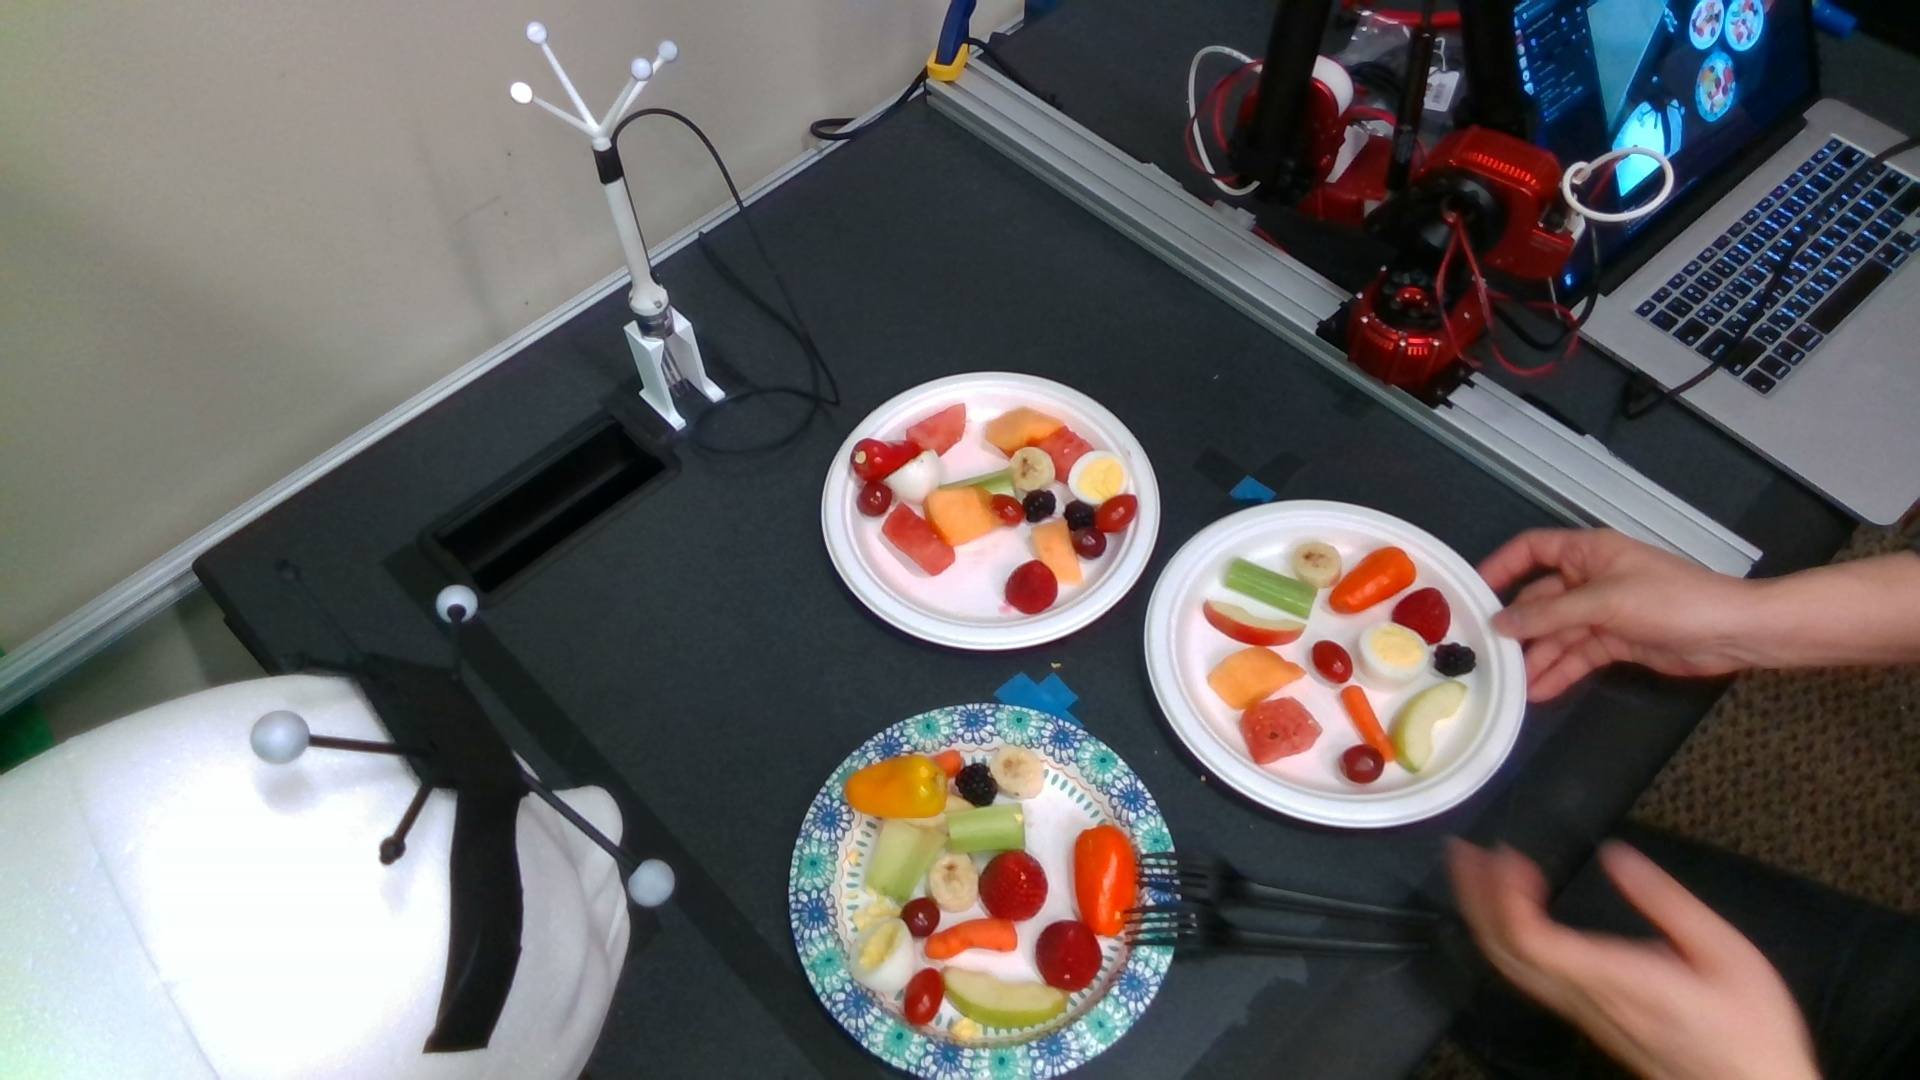apple: (942, 965, 1069, 1025), (1393, 680, 1466, 773), (1203, 599, 1305, 645)
banana: (930, 853, 977, 913), (992, 749, 1043, 798), (1294, 543, 1340, 589), (1011, 448, 1054, 491)
bell_pepper: (1073, 824, 1135, 938), (845, 757, 945, 816), (1331, 549, 1412, 615), (852, 439, 920, 480)
blackberry: (957, 764, 997, 807), (1436, 644, 1477, 676), (1025, 491, 1056, 521), (1065, 500, 1093, 527)
cantalope: (1211, 647, 1303, 708), (924, 488, 1004, 543), (986, 409, 1062, 448), (1034, 522, 1083, 583)
carrot: (1341, 684, 1395, 761), (927, 919, 1015, 959)
celery: (870, 822, 943, 898), (1225, 558, 1317, 615), (949, 803, 1026, 851)
cherry_tomato: (907, 969, 944, 1025), (1311, 641, 1352, 683), (1098, 496, 1135, 531), (993, 495, 1022, 525)
egg: (1360, 622, 1429, 684), (852, 918, 913, 989), (885, 448, 942, 501), (1069, 451, 1126, 502)
grape: (1342, 746, 1385, 782), (901, 898, 939, 936), (858, 481, 891, 516), (1073, 529, 1106, 558)
melon: (884, 504, 953, 574), (1241, 699, 1317, 760), (910, 405, 967, 454)
plate: (789, 702, 1178, 1080), (1146, 500, 1526, 829), (820, 371, 1159, 647)
strawberry: (981, 853, 1047, 920), (1038, 922, 1100, 990), (1393, 589, 1451, 641), (1007, 560, 1056, 613)
